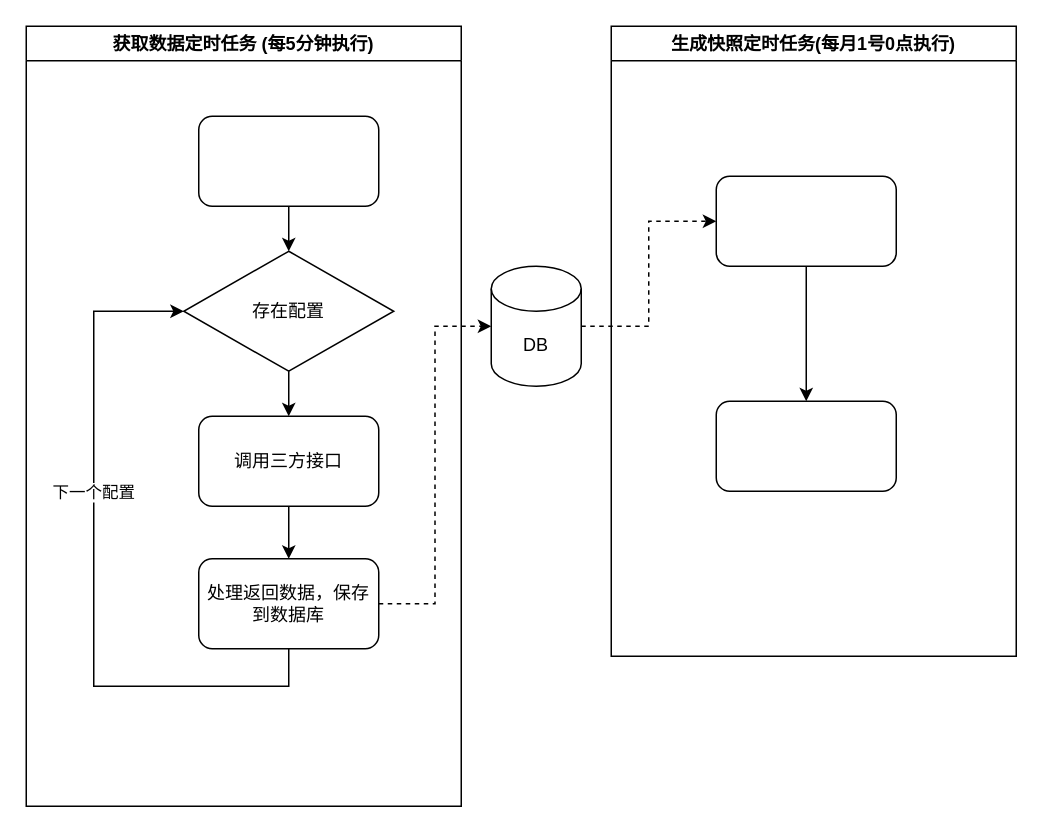
This 1043x833 diagram has some shape labels left out. The centre of each missing label's shape, as x and y in pixels:
生成快照: pixel 805 445
获取第三方配置: pixel 288 160
读取数据库: pixel 805 220
